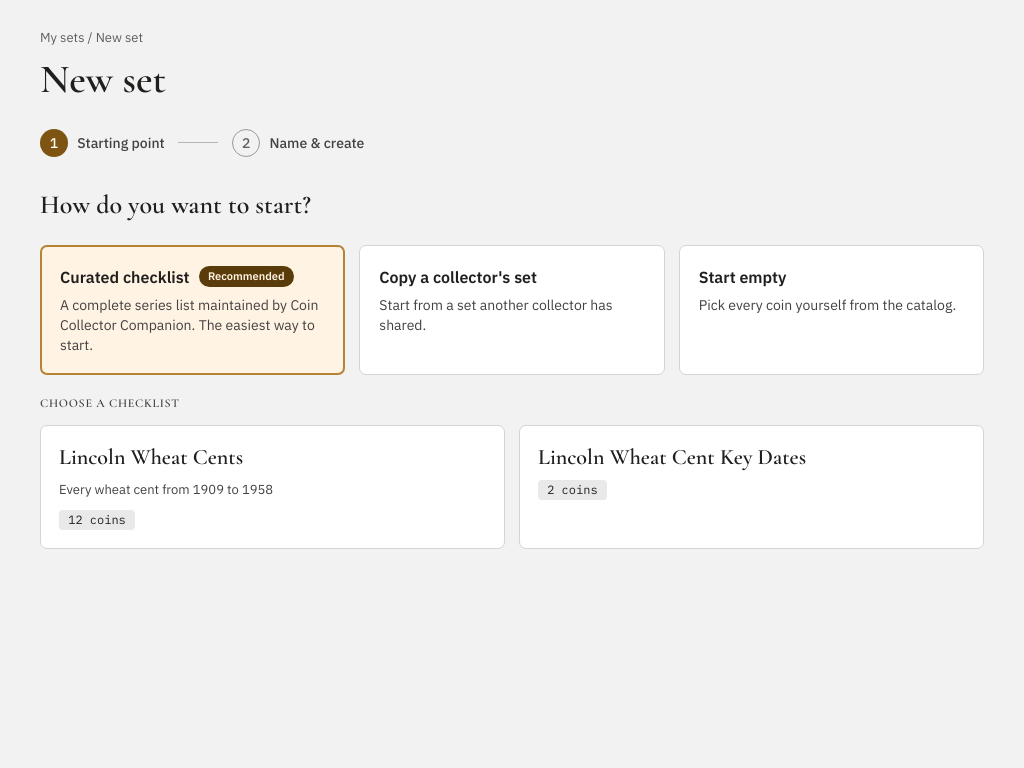
Test: NewSetPage › criterion 5: step indicator › on step 2: step-2 is current and step-1 has no aria-current
The image size is (1024, 768).
What coordinates should you click on to do the following:
click the radio button with test id "set-new-option-blank"
I would click on:
 (831, 310)
Its box is [679,245,984,375].
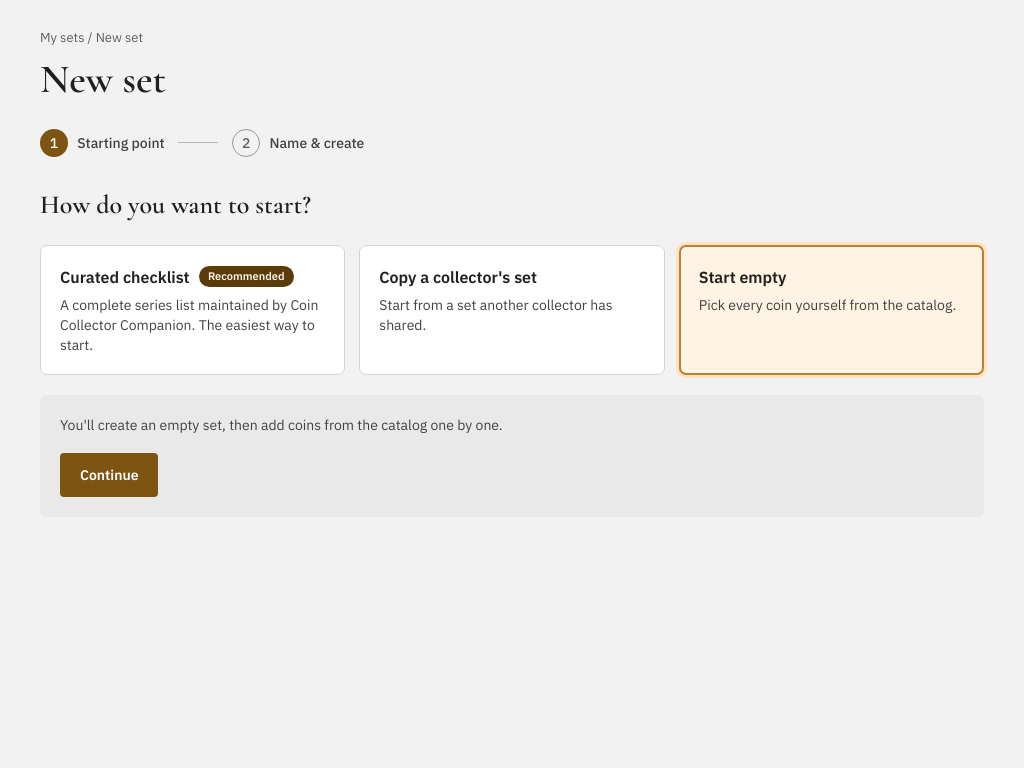
What coordinates should you click on to do the following:
click the button with test id "set-new-continue"
I would click on:
 (109, 475)
Its box is [60,453,158,497].
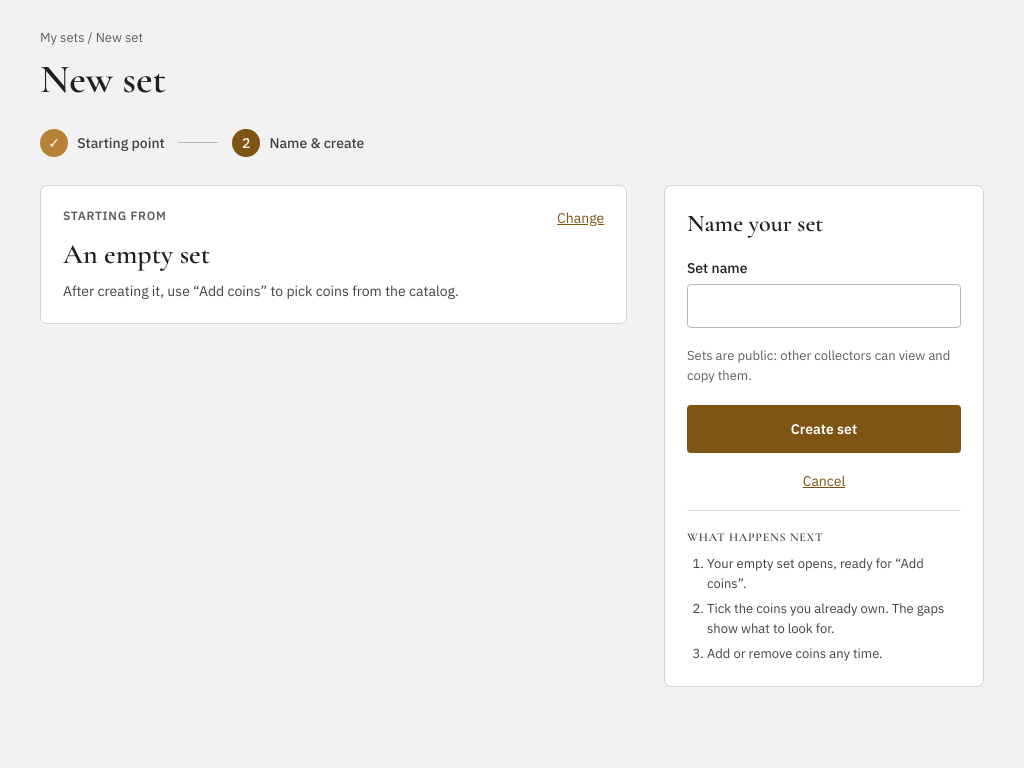
expect the element with test id "set-new-step-2" is shown: met
